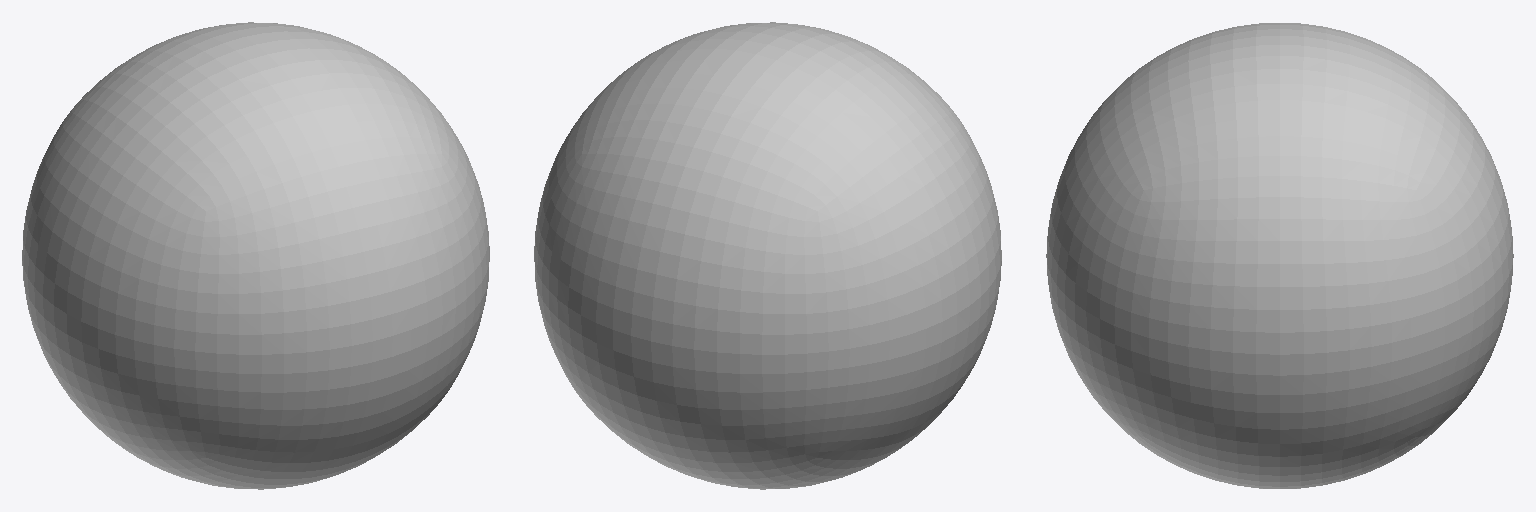
3 renders of one model, left to right at view 1: azimuth 30°, elevation 25°; view 2: azimuth 150°, elevation 25°; view 3: azimuth 270°, elevation 25°, orthographic.
Visible parts, largest first — view 1: moon; view 2: moon; view 3: moon.
Boxes of the visible parts, box(x1,y1,x2,y2) form: moon: box(22, 22, 489, 489); moon: box(534, 22, 1001, 489); moon: box(1046, 23, 1513, 488).
Bounding box in the file's own units: 30.58 × 30.54 × 30.58.